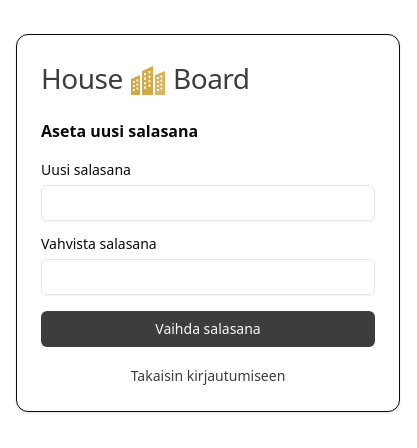
it: ResetPasswordPage › shows validation error for password mismatch
The width and height of the screenshot is (417, 448).
Click the password field labelled "Uusi salasana" at x=208, y=203, box [41, 185, 375, 221]
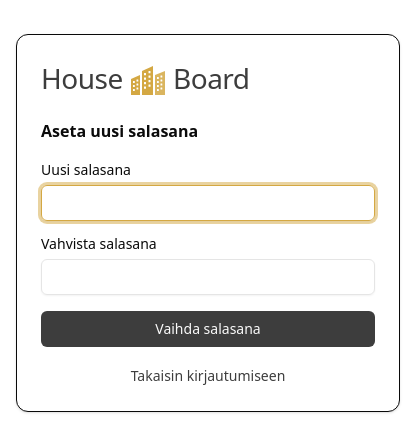
Type keys "ValidPass1!"
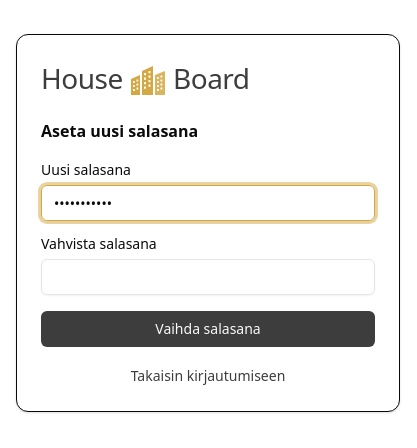
Click the password field labelled "Vahvista salasana" at x=208, y=277, box [41, 259, 375, 295]
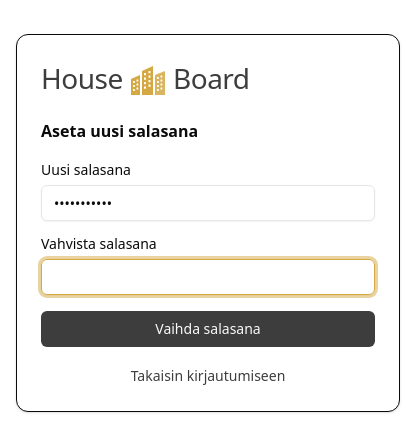
Type keys "DifferentPass1!"
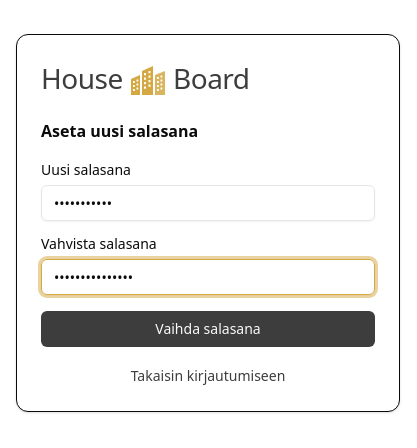
Click the button "Vaihda salasana" at x=208, y=329, box [41, 311, 375, 347]
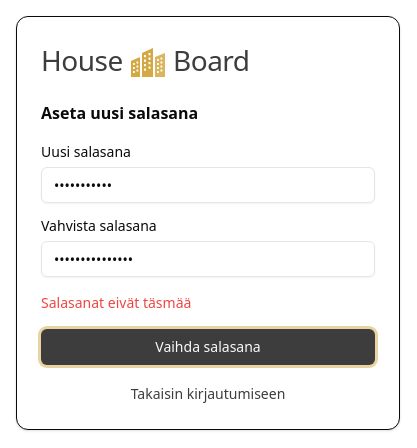
Expected: the message shows "eivät täsmää", [41, 293, 191, 312]
